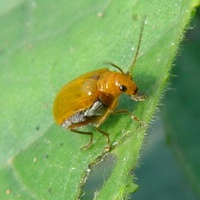insect: (53, 15, 145, 148)
